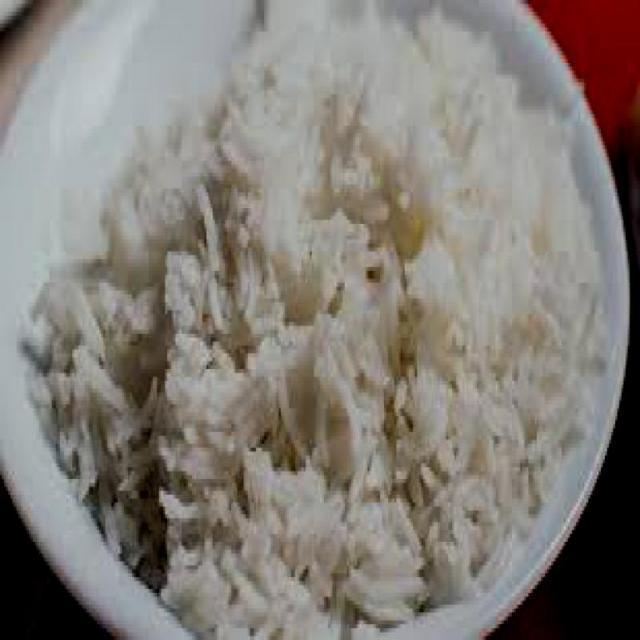Chicken -Chicken Inasal-: (33, 33, 609, 639)
